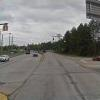Traffic light: (1, 19, 14, 38)
